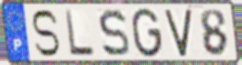8: (199, 8, 230, 57)
G: (131, 7, 164, 59)
L: (63, 9, 96, 58)
S: (97, 8, 132, 59), (30, 8, 62, 59)
V: (163, 7, 193, 58)
